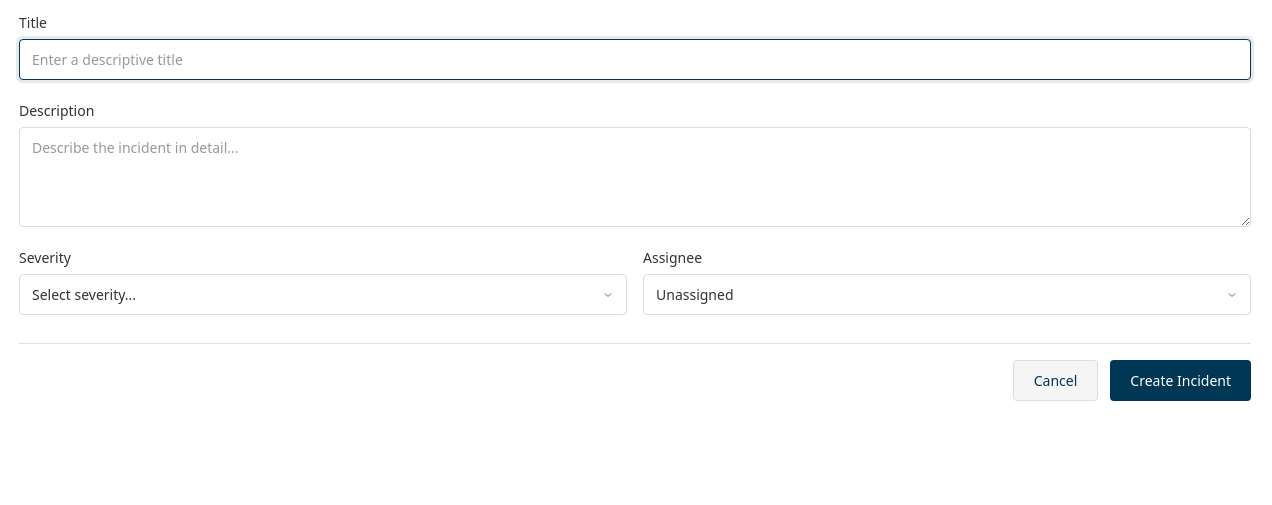
it: IncidentForm › Validation › clears validation errors when valid input is provided
Submit to trigger errors
Click the button "Create Incident" at (1181, 380), box [1110,360,1251,401]
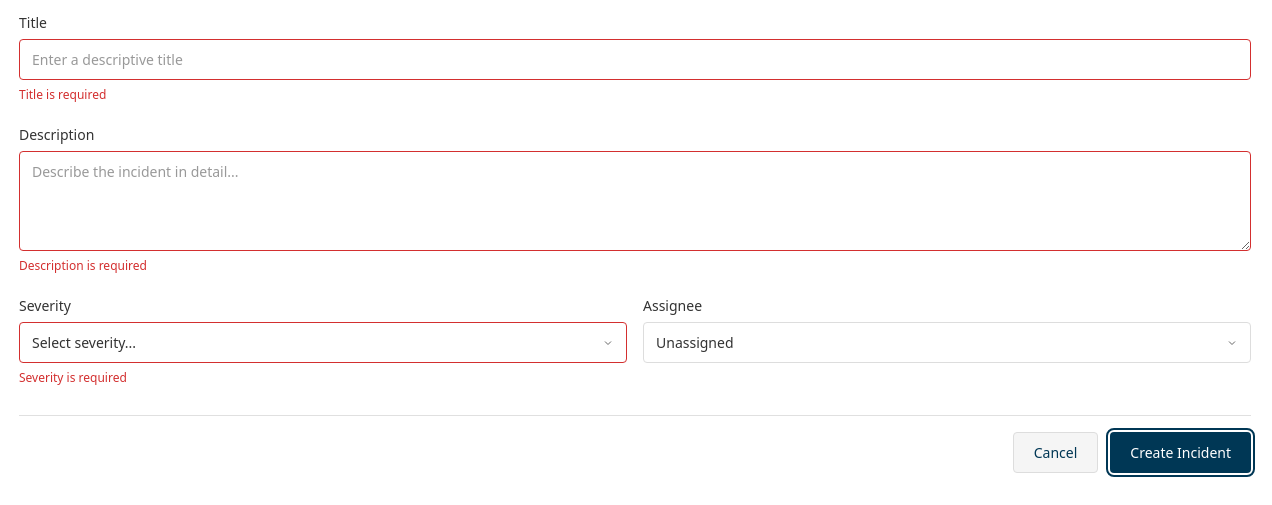
Expected: the text "Title is required" is shown, [19,86,106,103]
Fill in valid data and submit again
Type "Valid incident title" into the field labelled "Title" at (635, 60), box [19,39,1251,80]
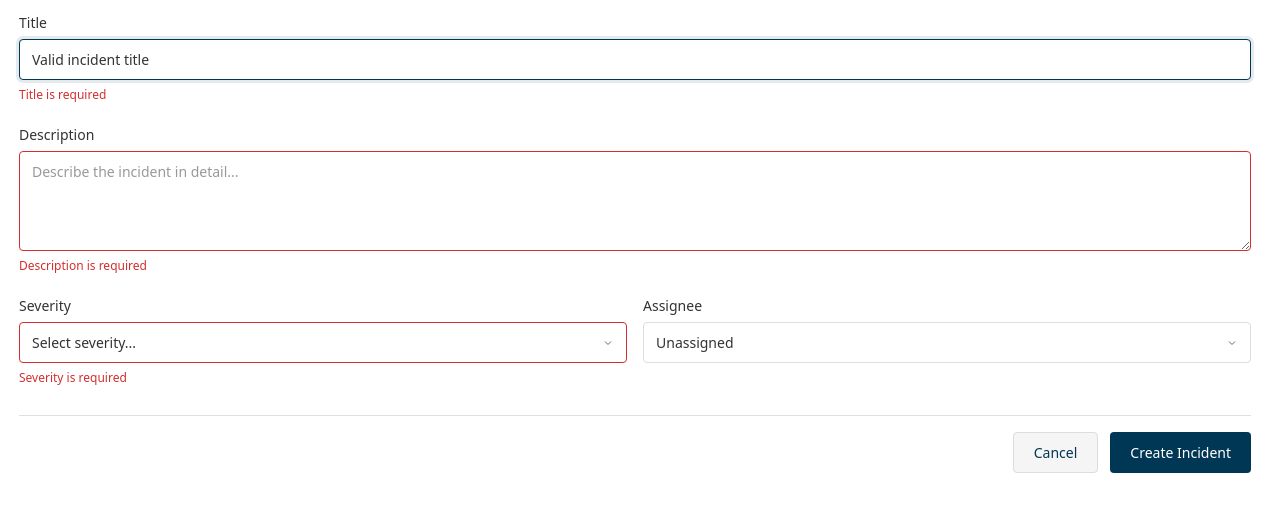
Type "This is a valid description for the incident" into the text box labelled "Description" at (635, 201), box [19,151,1251,251]
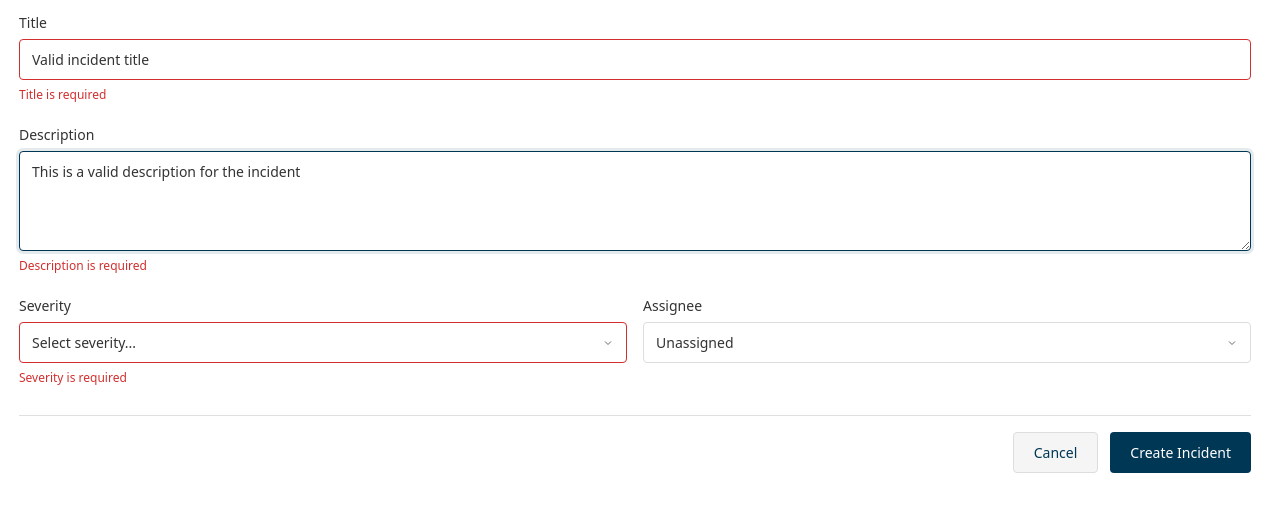
Select "High" in the dropdown labelled "Severity" at (323, 342), box [19,322,627,363]
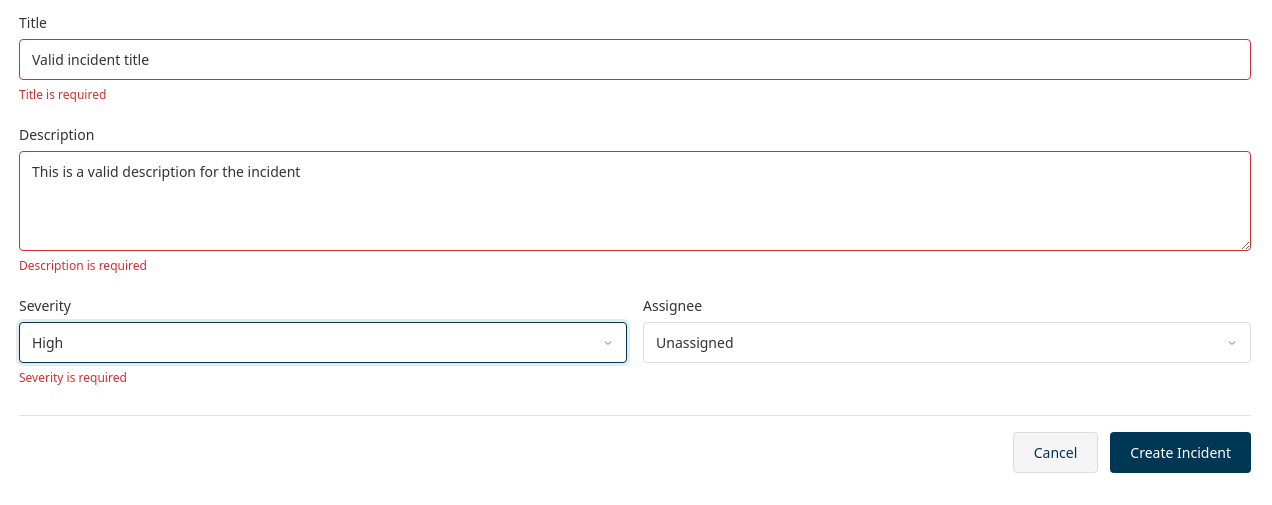
Click the button "Create Incident" at (1181, 452), box [1110,432,1251,473]
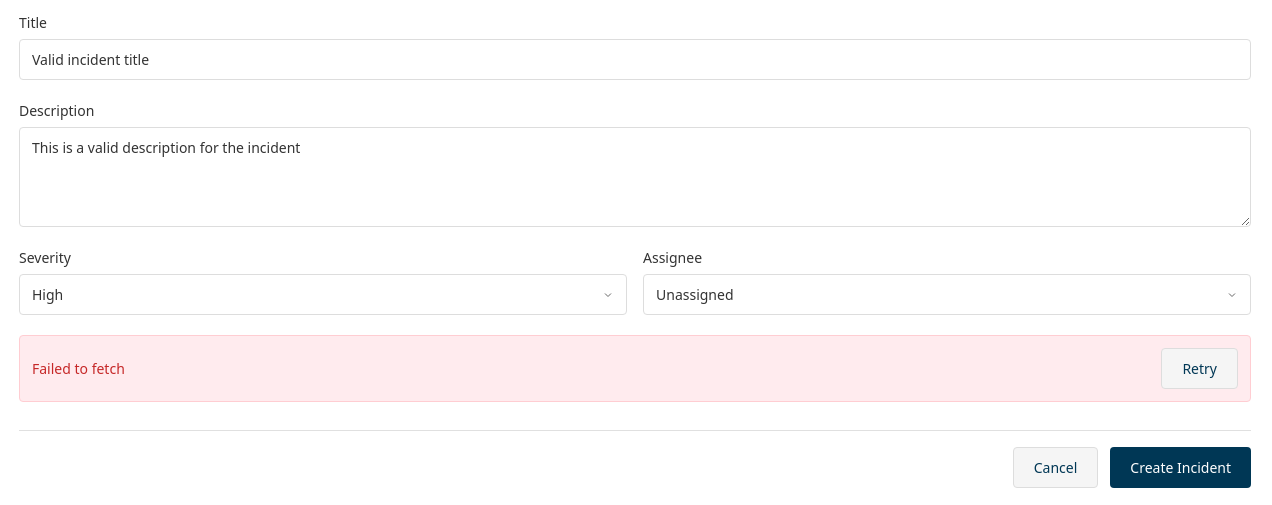
Expected: the text "Title is required" is gone
Expected: the text "Description is required" is gone
Expected: the text "Severity is required" is gone
